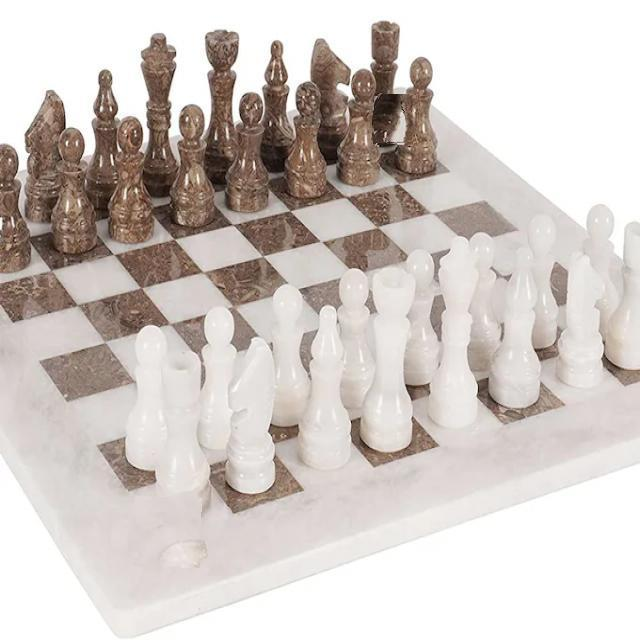chess-table-corners: (132, 493, 205, 569), (372, 94, 419, 146)
